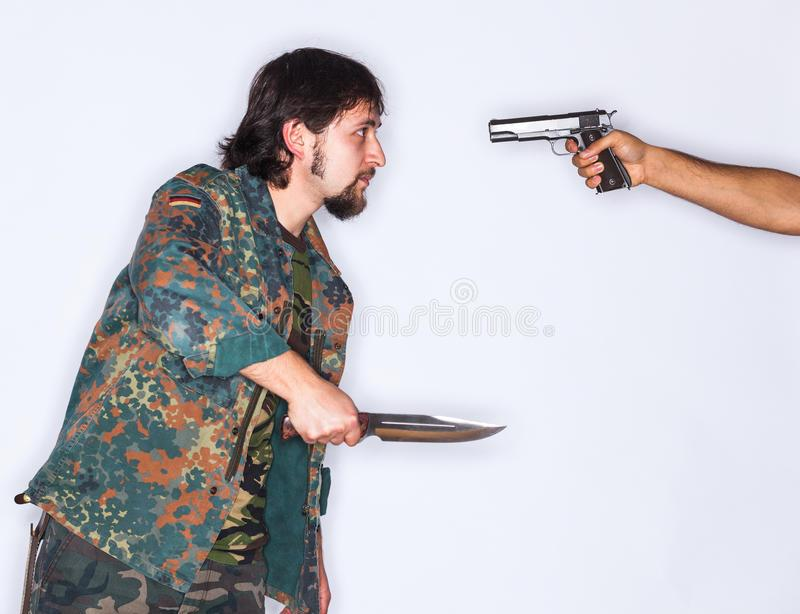criminal: (14, 42, 512, 614)
weapon: (483, 103, 635, 200), (277, 405, 511, 455)
